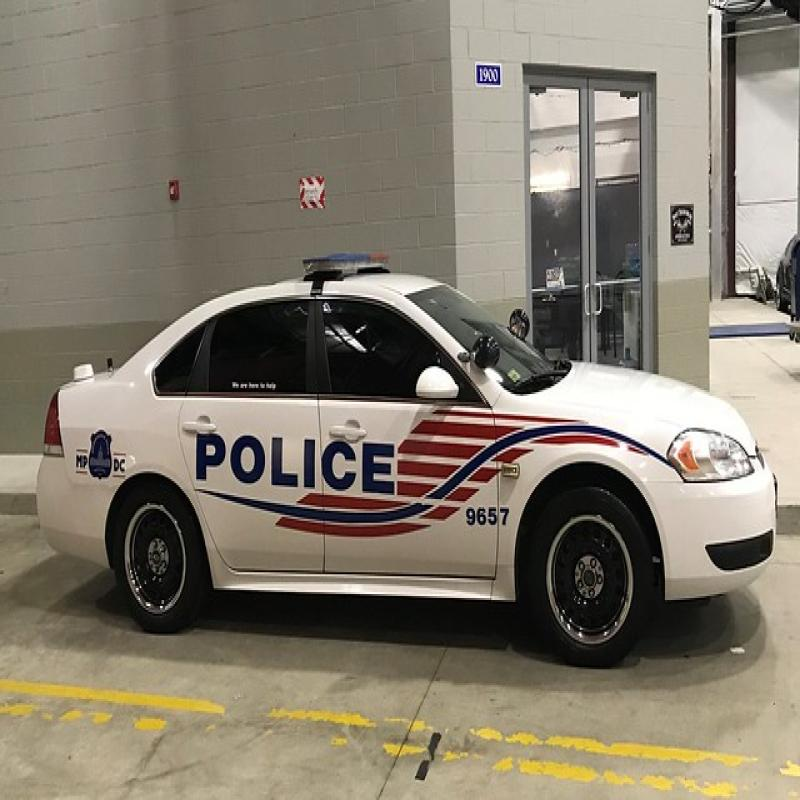AmbulanceSiren: (294, 233, 398, 284)
